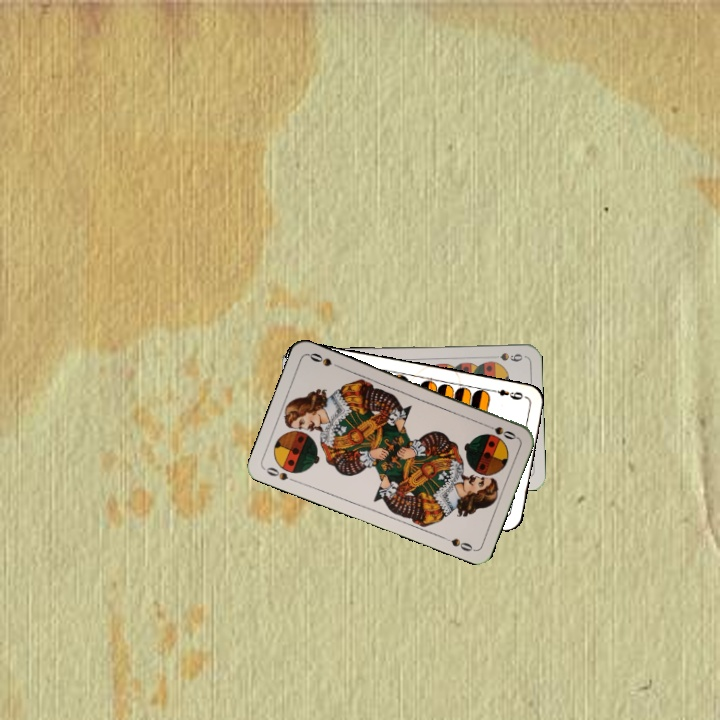E9: (487, 385, 526, 403)
S9: (485, 349, 525, 364)
SO: (480, 420, 519, 442), (262, 463, 300, 485)
